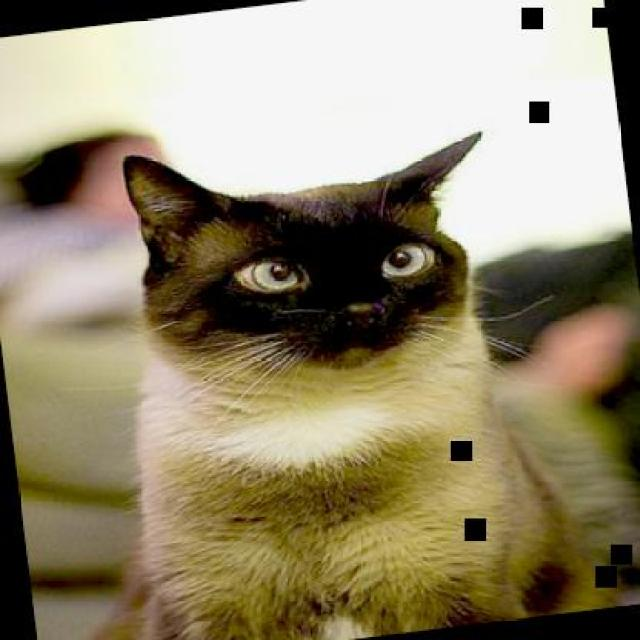cat: (17, 100, 632, 638)
